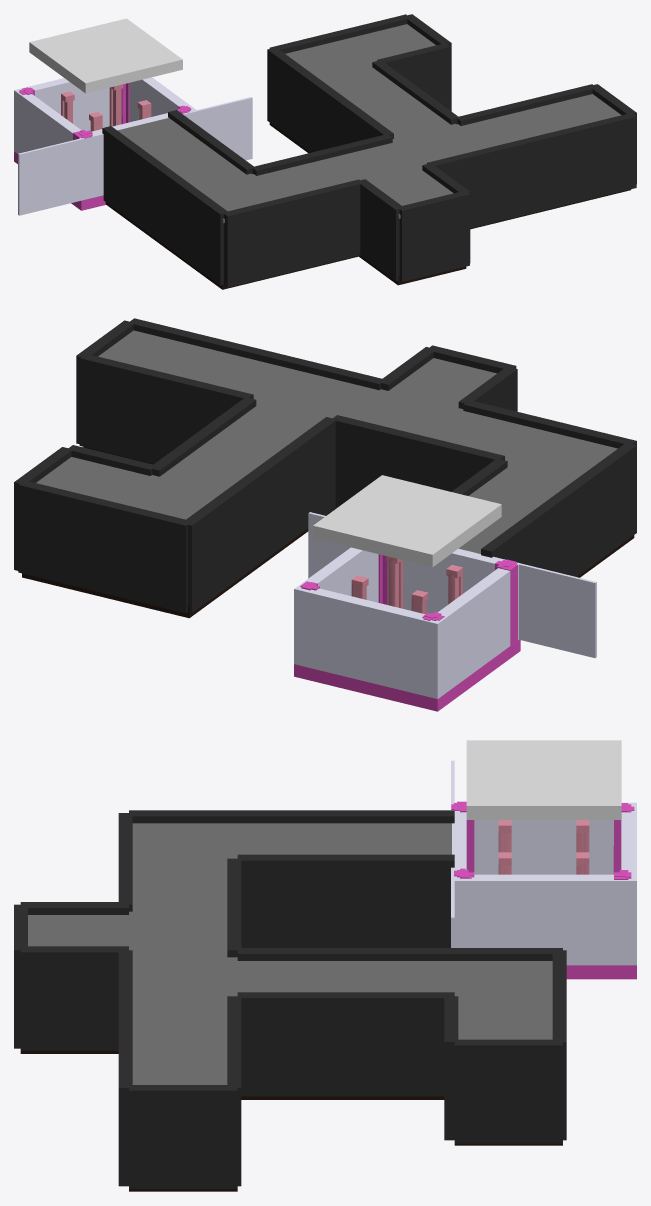
Rendered from Room.fbx.
The picture shows the model from 3 angles, top to bottom: view 1: azimuth 30°, elevation 25°; view 2: azimuth 150°, elevation 25°; view 3: azimuth 270°, elevation 25°; orthographic projection. The views are drawn at different scales.
Visible parts, largest first — view 1: Cube.006, Cube.033, Cube.072, Cube.046, Cube.050, Cube.034, Cube.013, Cube.029, Cube.003, Cube.025, Cube.060, Cube.069 (+37 smaller); view 2: Cube.006, Cube.001, Cube.062, Cube.066, Cube.051, Cube.003, Cube.013, Cube.060, Cube.039, Cube.056, Cube.029, Cube.043 (+37 smaller); view 3: Cube.004, Cube.006, Cube.067, Cube.054, Cube.053, Cube.058, Cube.071, Cube.023, Cube.027, Cube.003, Cube.041, Cube.037 (+34 smaller).
Boxes of the visible parts, left/top/right/bottom form: Cube.006: left=29, top=18, right=182, bottom=93; Cube.033: left=224, top=196, right=295, bottom=287; Cube.072: left=399, top=190, right=469, bottom=281; Cube.046: left=495, top=129, right=568, bottom=220; Cube.050: left=563, top=113, right=636, bottom=204; Cube.034: left=291, top=179, right=363, bottom=270; Cube.013: left=18, top=133, right=103, bottom=215; Cube.029: left=181, top=183, right=228, bottom=285; Cube.003: left=14, top=88, right=90, bottom=200; Cube.025: left=141, top=155, right=189, bottom=256; Cube.060: left=267, top=47, right=314, bottom=148; Cube.069: left=358, top=179, right=404, bottom=281; Cube.006: left=313, top=475, right=501, bottom=567; Cube.001: left=306, top=588, right=426, bottom=695; Cube.062: left=102, top=501, right=187, bottom=613; Cube.066: left=18, top=480, right=107, bottom=592; Cube.051: left=79, top=353, right=169, bottom=463; Cube.003: left=425, top=562, right=519, bottom=698; Cube.013: left=519, top=563, right=596, bottom=658; Cube.060: left=182, top=487, right=240, bottom=613; Cube.039: left=331, top=415, right=420, bottom=508; Cube.056: left=230, top=452, right=288, bottom=577; Cube.029: left=578, top=443, right=636, bottom=567; Cube.043: left=278, top=417, right=335, bottom=542; Cube.004: left=451, top=874, right=636, bottom=965; Cube.006: left=466, top=740, right=621, bottom=819; Cube.067: left=454, top=1039, right=562, bottom=1143; Cube.054: left=129, top=1085, right=237, bottom=1188; Cube.053: left=237, top=992, right=345, bottom=1096; Cube.058: left=346, top=992, right=454, bottom=1096; Cube.071: left=20, top=946, right=128, bottom=1050; Cube.023: left=346, top=854, right=454, bottom=947; Cube.027: left=237, top=854, right=345, bottom=947; Cube.003: left=451, top=802, right=636, bottom=874; Cube.041: left=132, top=956, right=234, bottom=1002; Cube.037: left=126, top=910, right=227, bottom=956.
Bounding box in the file's own units: 10294 × 2378 × 8040.
